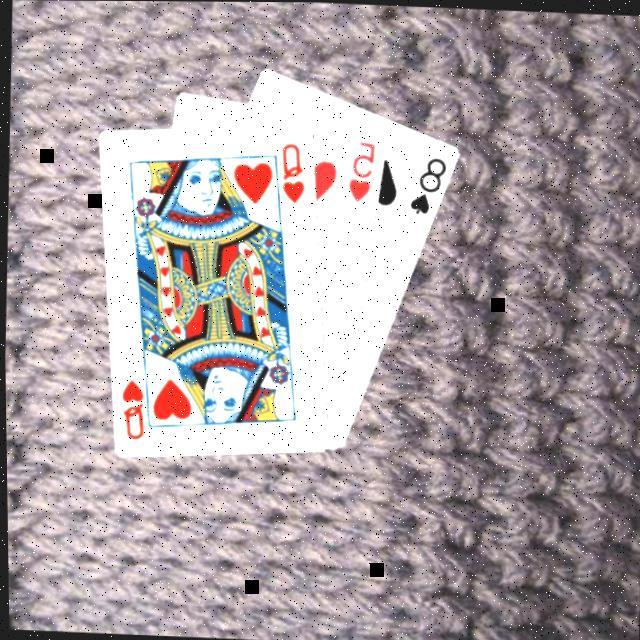5H: (342, 134, 377, 202)
8S: (403, 151, 448, 216)
QH: (112, 364, 154, 441), (274, 137, 308, 204)
